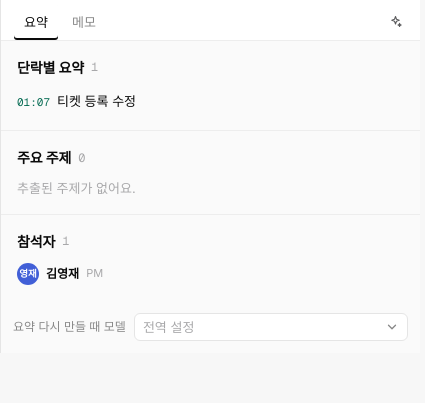
Test: InsightPane › 단락은 접힌 채로 시작하고 행을 누르면 불릿이 펼쳐진다
The width and height of the screenshot is (425, 403).
Expected: the text "공유를 해드릴 것임" is not shown
Click the button "티켓 등록 수정" at (97, 101), box [57,89,404,114]
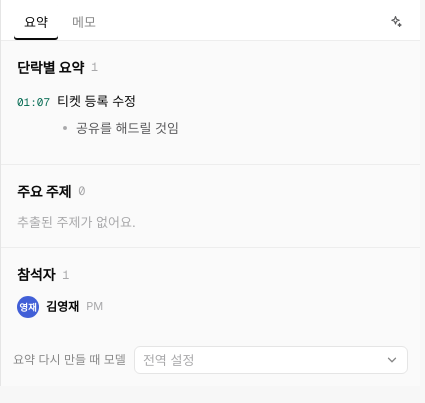
Expected: the text "공유를 해드릴 것임" is shown, [76,119,179,139]
